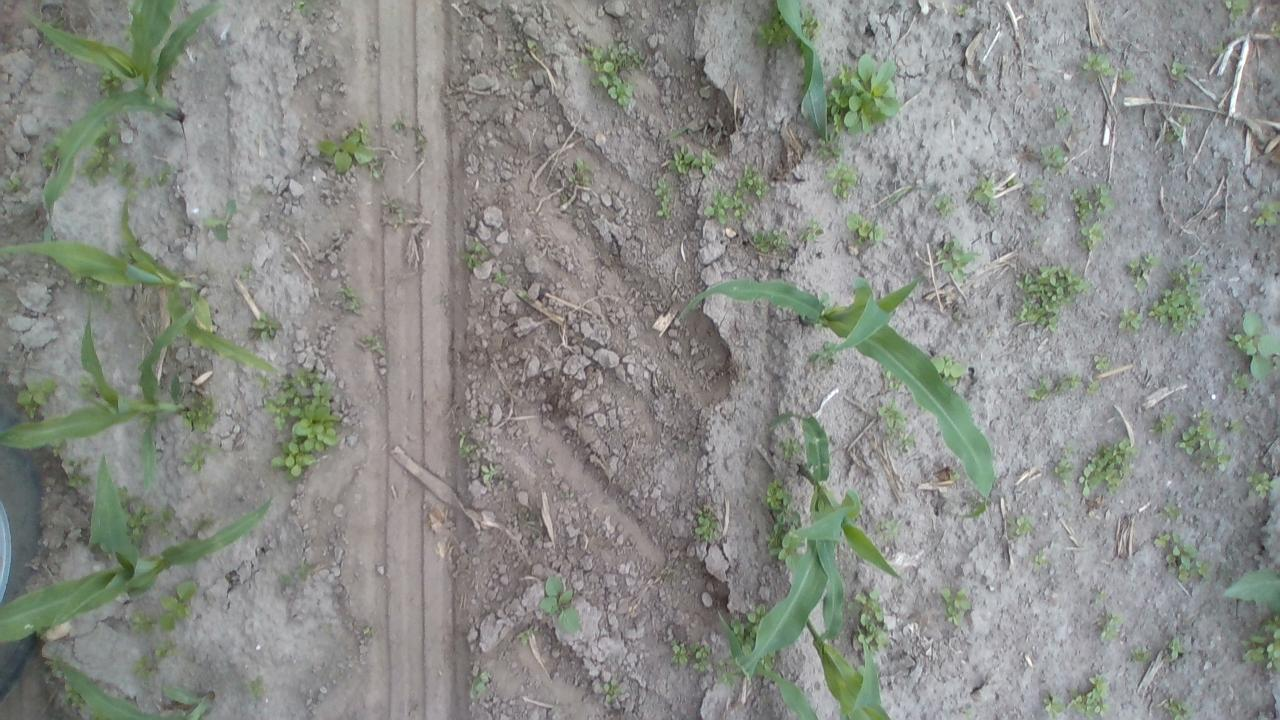Maize: (679, 280, 992, 518), (3, 455, 279, 648), (1, 194, 287, 380), (16, 0, 228, 223), (748, 412, 914, 681), (0, 302, 196, 482), (719, 612, 825, 718), (56, 663, 218, 720), (804, 617, 891, 720), (777, 0, 827, 141), (1224, 570, 1280, 606)
Weeds: (268, 365, 342, 476), (826, 54, 900, 135), (1015, 264, 1087, 326), (580, 38, 645, 106), (1152, 255, 1205, 332), (1226, 308, 1280, 382), (1177, 408, 1240, 469), (1079, 440, 1138, 502), (538, 572, 588, 641), (315, 121, 374, 176), (846, 588, 890, 654), (124, 501, 184, 543), (1164, 532, 1210, 584), (936, 235, 982, 285), (1241, 612, 1280, 666), (16, 381, 62, 424), (159, 579, 198, 627), (206, 191, 240, 245), (701, 193, 753, 226), (1022, 374, 1078, 404), (734, 161, 772, 204), (767, 520, 801, 568), (1072, 676, 1114, 714), (842, 211, 885, 248), (668, 638, 712, 674), (668, 144, 719, 174), (1070, 183, 1114, 216), (827, 166, 864, 202), (745, 226, 789, 256), (186, 391, 219, 430), (760, 13, 790, 54), (941, 584, 971, 625), (85, 148, 116, 187), (809, 340, 842, 376), (1125, 252, 1158, 288), (729, 604, 766, 636), (692, 508, 724, 544), (878, 396, 911, 430), (245, 312, 281, 343), (761, 478, 793, 512), (1080, 48, 1114, 80), (1250, 198, 1280, 230), (932, 355, 966, 383), (134, 657, 166, 686), (778, 435, 804, 468), (876, 512, 904, 542), (1100, 610, 1124, 644), (183, 440, 210, 470), (1080, 221, 1106, 252), (1160, 693, 1192, 718), (1148, 412, 1180, 437), (98, 70, 125, 99), (1240, 470, 1272, 494), (969, 176, 998, 202), (1119, 305, 1148, 331), (468, 674, 492, 705), (796, 221, 827, 245), (1038, 143, 1070, 166), (36, 138, 58, 170), (1038, 694, 1066, 719), (654, 178, 672, 216), (812, 136, 843, 158), (1028, 178, 1048, 212), (1167, 112, 1193, 138), (1007, 513, 1034, 538), (801, 7, 822, 38), (454, 434, 478, 461), (1224, 0, 1254, 20), (96, 127, 122, 150), (132, 610, 154, 636), (1129, 642, 1155, 664), (152, 636, 178, 657), (290, 562, 320, 580), (5, 173, 28, 196), (1168, 54, 1189, 79), (574, 156, 594, 182), (514, 625, 533, 652), (1032, 546, 1051, 572), (882, 372, 906, 392), (338, 285, 356, 311), (464, 242, 484, 265), (602, 684, 622, 706), (492, 268, 515, 287), (931, 193, 952, 213), (153, 163, 172, 185), (720, 661, 739, 683), (118, 158, 134, 184), (478, 462, 496, 485), (69, 464, 88, 485), (1210, 36, 1226, 60), (900, 433, 920, 452), (391, 116, 408, 138), (1168, 636, 1182, 662), (1056, 102, 1070, 128), (1164, 505, 1182, 524), (249, 677, 267, 696), (1054, 461, 1074, 478), (1090, 584, 1110, 601), (1230, 374, 1252, 388), (1090, 356, 1109, 372), (359, 336, 382, 349), (240, 267, 258, 282), (1152, 532, 1170, 546), (78, 376, 91, 394), (1088, 380, 1102, 395), (951, 3, 970, 14), (1121, 70, 1134, 85), (1272, 22, 1280, 43), (1061, 445, 1074, 456), (144, 176, 152, 187), (294, 0, 306, 7)
